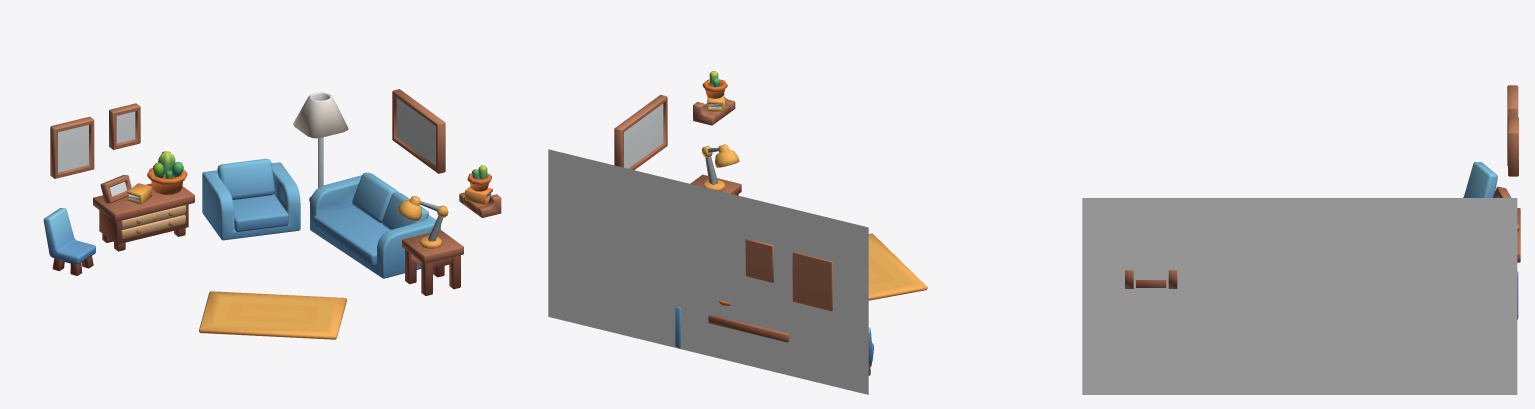
Rendered from room-transformed.glb.
3 renders of one model, left to right at view 1: azimuth 30°, elevation 25°; view 2: azimuth 150°, elevation 25°; view 3: azimuth 270°, elevation 25°, orthographic. The views are drawn at different scales.
Visible parts, largest first — view 1: couch.001, armchair.001, cabinet_medium_decorated.001, rug_rectangle_stripes_A.001, pictureframe_large_B.001, table_small.001, pictureframe_large_A.001, lamp_standing.001, chair_C.001, shelf_B_small_decorated.001, pictureframe_medium.001, lamp_desk.001; view 2: Cube, pictureframe_large_B.001, rug_rectangle_stripes_A.001, pictureframe_large_A.001, shelf_B_small_decorated.001, pictureframe_medium.001, lamp_desk.001, cabinet_medium_decorated.001; view 3: Cube, chair_C.001, pictureframe_medium.001, shelf_B_small_decorated.001, pictureframe_large_A.001.
Boxes of the visible parts, x1=… form: couch.001: x1=310, y1=172, x2=440, y2=278; armchair.001: x1=202, y1=158, x2=300, y2=240; cabinet_medium_decorated.001: x1=93, y1=151, x2=194, y2=251; rug_rectangle_stripes_A.001: x1=199, y1=291, x2=346, y2=339; pictureframe_large_B.001: x1=392, y1=89, x2=445, y2=173; table_small.001: x1=402, y1=230, x2=463, y2=295; pictureframe_large_A.001: x1=50, y1=116, x2=94, y2=178; lamp_standing.001: x1=293, y1=92, x2=348, y2=201; chair_C.001: x1=43, y1=208, x2=95, y2=275; shelf_B_small_decorated.001: x1=459, y1=165, x2=501, y2=217; pictureframe_medium.001: x1=109, y1=103, x2=140, y2=149; lamp_desk.001: x1=397, y1=196, x2=448, y2=248; Cube: x1=548, y1=149, x2=868, y2=394; pictureframe_large_B.001: x1=614, y1=94, x2=667, y2=170; rug_rectangle_stripes_A.001: x1=868, y1=233, x2=927, y2=300; pictureframe_large_A.001: x1=792, y1=252, x2=832, y2=311; shelf_B_small_decorated.001: x1=693, y1=71, x2=735, y2=125; pictureframe_medium.001: x1=745, y1=239, x2=773, y2=282; lamp_desk.001: x1=701, y1=144, x2=739, y2=191; cabinet_medium_decorated.001: x1=708, y1=300, x2=789, y2=342; Cube: x1=1082, y1=198, x2=1517, y2=394; chair_C.001: x1=1463, y1=162, x2=1497, y2=197; pictureframe_medium.001: x1=1508, y1=117, x2=1518, y2=176; shelf_B_small_decorated.001: x1=1125, y1=270, x2=1177, y2=288; pictureframe_large_A.001: x1=1507, y1=85, x2=1518, y2=165.
Bounding box in the file's own units: 8 × 4 × 8.06.
Materials: 1 (1 with a texture image).
